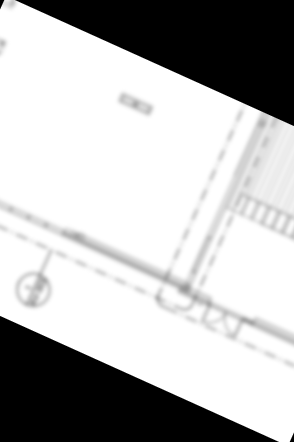double door: (199, 300, 245, 339), (188, 232, 217, 276)
